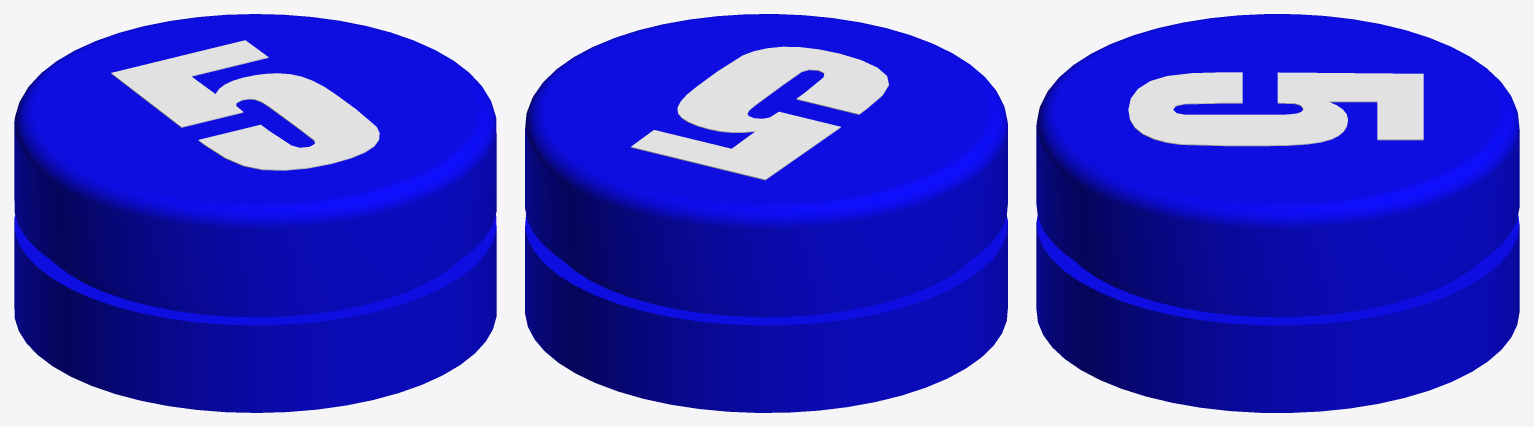
File: nubot_frame5_blue.dae
3 renders of one model, left to right at view 1: azimuth 30°, elevation 25°; view 2: azimuth 150°, elevation 25°; view 3: azimuth 270°, elevation 25°, orthographic.
Visible parts, largest first — view 1: SketchUp (×3), instance_0; view 2: SketchUp (×3), instance_0; view 3: SketchUp (×3), instance_0.
Boxes of the visible parts, <box> form: SketchUp (×3): <box>14,14,496,412</box>; instance_0: <box>111,40,379,170</box>; SketchUp (×3): <box>525,14,1007,412</box>; instance_0: <box>631,46,888,180</box>; SketchUp (×3): <box>1036,14,1519,412</box>; instance_0: <box>1128,72,1423,146</box>.
Bounding box in the file's own units: 19.66 × 19.68 × 9.09.
